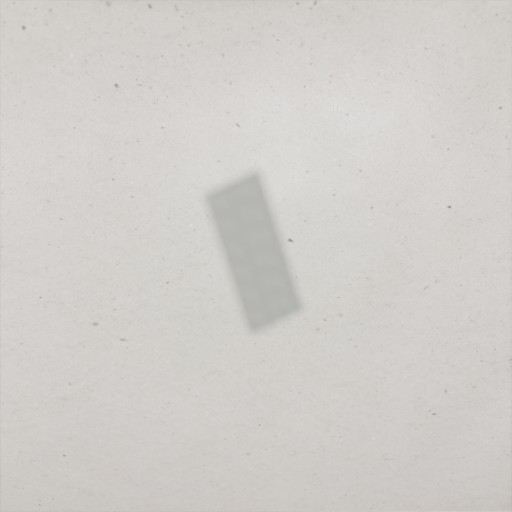lego: (202, 168, 304, 336)
